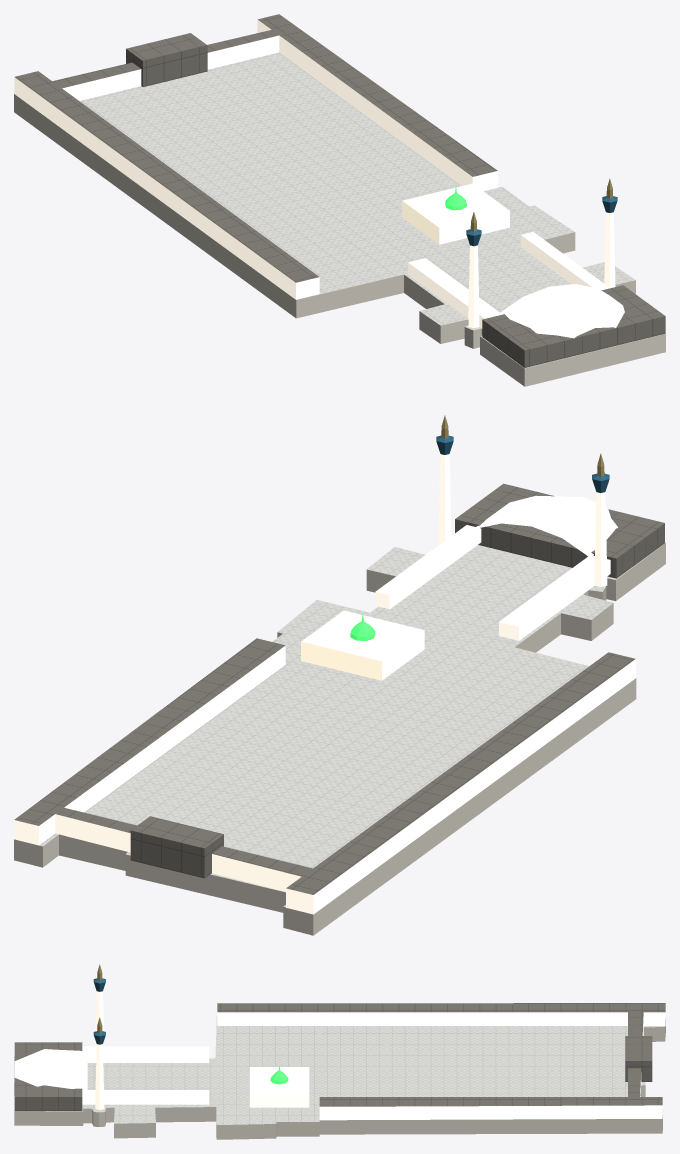
Rendered from data_darbar_far.glb.
3 views of the same model, one above another, from view 1: azimuth 30°, elevation 25°; view 2: azimuth 150°, elevation 25°; view 3: azimuth 270°, elevation 25° (orthographic). The views are drawn at different scales.
Parts seen in each view (by area): view 1: m_dd_marble_floor, m_dd_grey_roof, m_dd_white, m_dd_street_wall, m_dd_tomb_marble; view 2: m_dd_marble_floor, m_dd_grey_roof, m_dd_white, m_dd_street_wall, m_dd_tomb_marble; view 3: m_dd_marble_floor, m_dd_white, m_dd_grey_roof, m_dd_street_wall, m_dd_tomb_marble.
Part boxes in pixels (x1,y1,x2,y2): m_dd_marble_floor: [21, 52, 665, 368]; m_dd_grey_roof: [15, 14, 665, 367]; m_dd_white: [14, 19, 624, 338]; m_dd_street_wall: [14, 94, 665, 386]; m_dd_tomb_marble: [402, 183, 509, 244]; m_dd_marble_floor: [37, 542, 665, 909]; m_dd_grey_roof: [14, 483, 664, 894]; m_dd_white: [14, 454, 635, 914]; m_dd_street_wall: [14, 543, 665, 935]; m_dd_tomb_marble: [301, 610, 424, 680]; m_dd_marble_floor: [14, 1017, 665, 1124]; m_dd_white: [14, 991, 665, 1120]; m_dd_grey_roof: [14, 1003, 665, 1110]; m_dd_street_wall: [14, 1019, 665, 1139]; m_dd_tomb_marble: [249, 1067, 309, 1107].
Bounding box in the file's own units: 95.12 × 44 × 241.
Materials: 8 (2 with a texture image).
